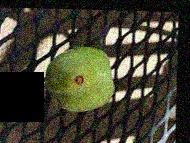rotten apple: (44, 47, 114, 113)
